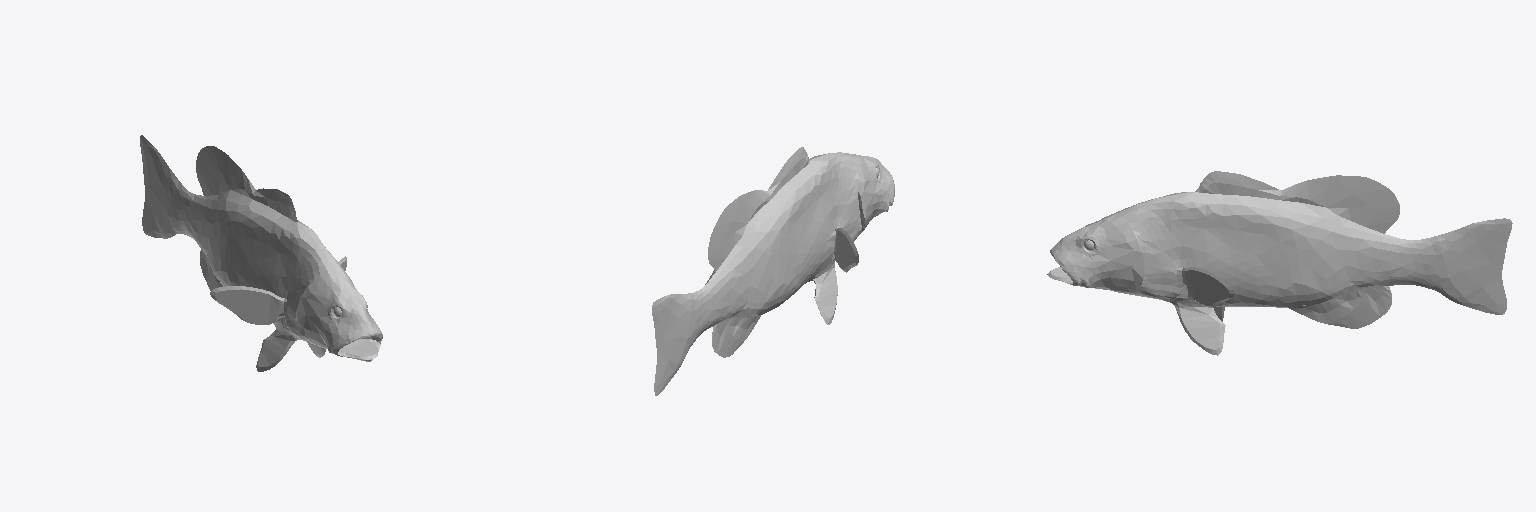
Rendered from LM_BASS.OBJ.
3 views of the same model, side by side, from view 1: azimuth 30°, elevation 25°; view 2: azimuth 150°, elevation 25°; view 3: azimuth 270°, elevation 25° (orthographic).
Parts seen in each view (by area): view 1: bss_body, bss_mouth; view 2: bss_body; view 3: bss_body.
Boxes of the visible parts, <box> form: bss_body: <box>140,135,382,371</box>; bss_mouth: <box>339,335,379,356</box>; bss_body: <box>652,147,894,395</box>; bss_body: <box>1047,171,1512,355</box>.
Size of the model in its own units: 0.1269 by 0.1501 by 0.3725.